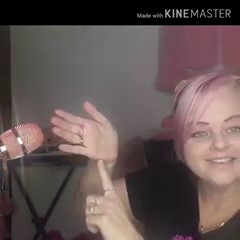T: (45, 96, 139, 240)
